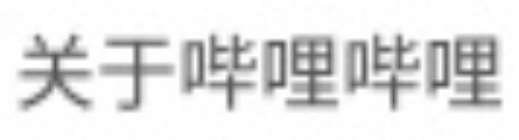TextView: (1, 1, 518, 139)
